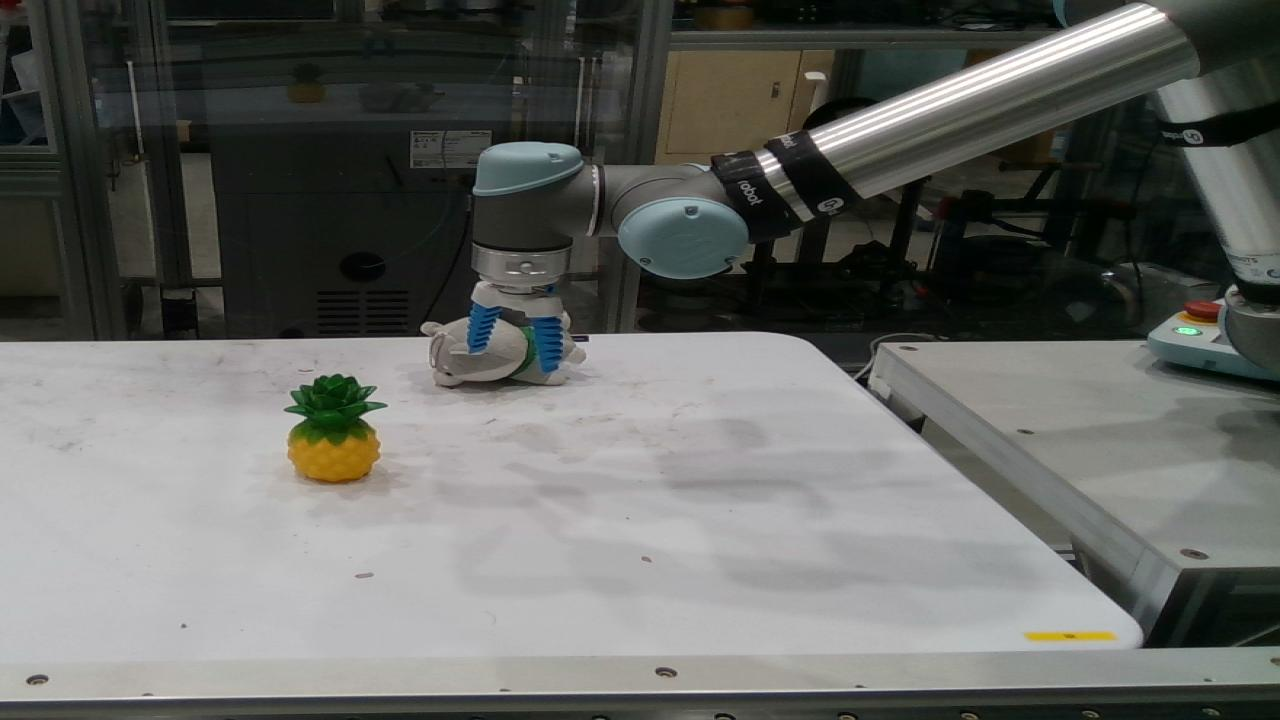UR5: (471, 0, 1279, 375)
gripper_left: (466, 301, 502, 352)
gripper_right: (531, 316, 563, 373)
target: (421, 308, 587, 388), (283, 373, 390, 482)
